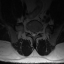CCS_normal: (33, 29, 35, 38)
LFS_normal: (37, 28, 39, 36)
LLS_normal: (35, 29, 37, 38)
RFS_normal: (29, 28, 31, 36)
RLS_normal: (31, 29, 33, 37)
